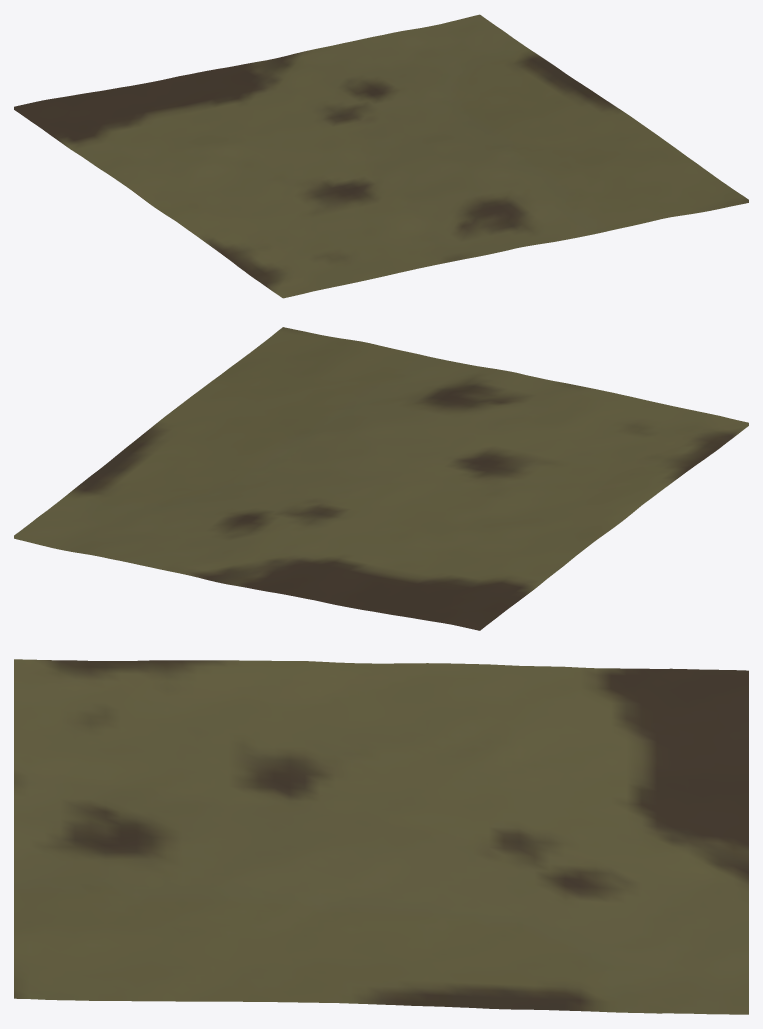
Rendered from land_m_02_11.glb.
The picture shows the model from 3 angles, top to bottom: view 1: azimuth 30°, elevation 25°; view 2: azimuth 150°, elevation 25°; view 3: azimuth 270°, elevation 25°; orthographic projection. The views are drawn at different scales.
Visible parts, largest first — view 1: land_m_02_11; view 2: land_m_02_11; view 3: land_m_02_11.
Boxes of the visible parts, <box> form: land_m_02_11: <box>14,14,748,298</box>; land_m_02_11: <box>14,327,748,630</box>; land_m_02_11: <box>14,659,748,1014</box>.
Bounding box in the file's own units: 960 × 64.48 × 960.
